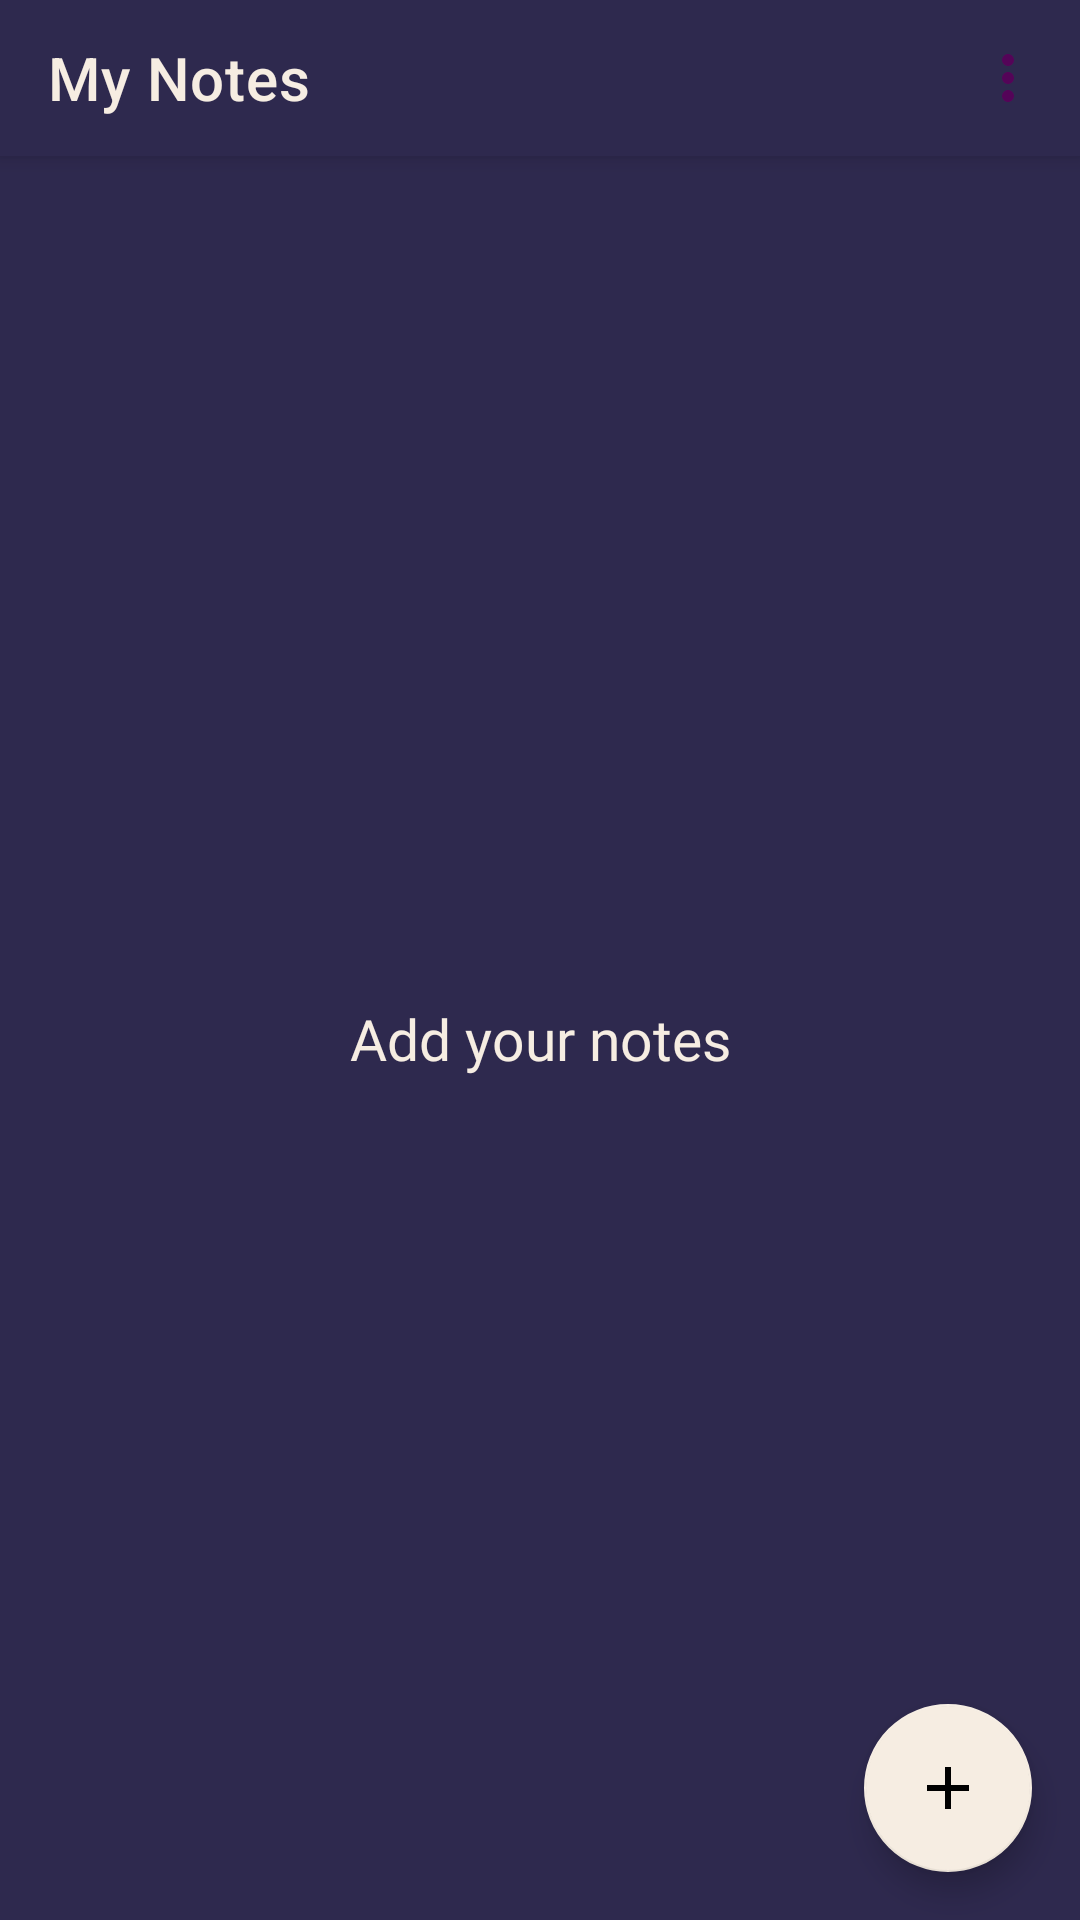

Where icons sit on this 1080px x 1920px app screen, as (x1, y1, x2, y2):
Enter memo: (864, 1704, 1032, 1872)
